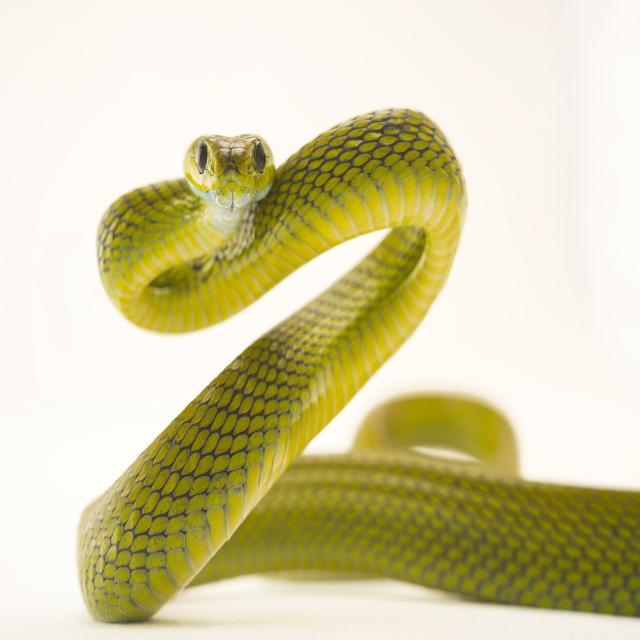Snake: (71, 76, 640, 640)
